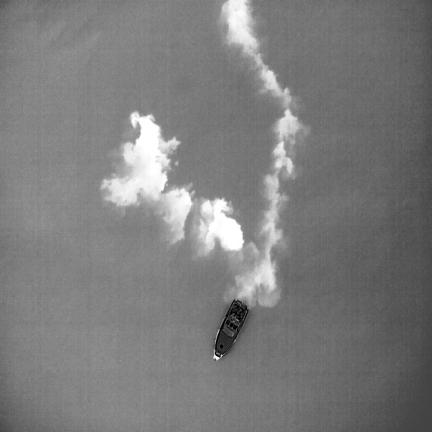flukeprints: (101, 112, 180, 205), (197, 198, 243, 252), (155, 189, 192, 243)
